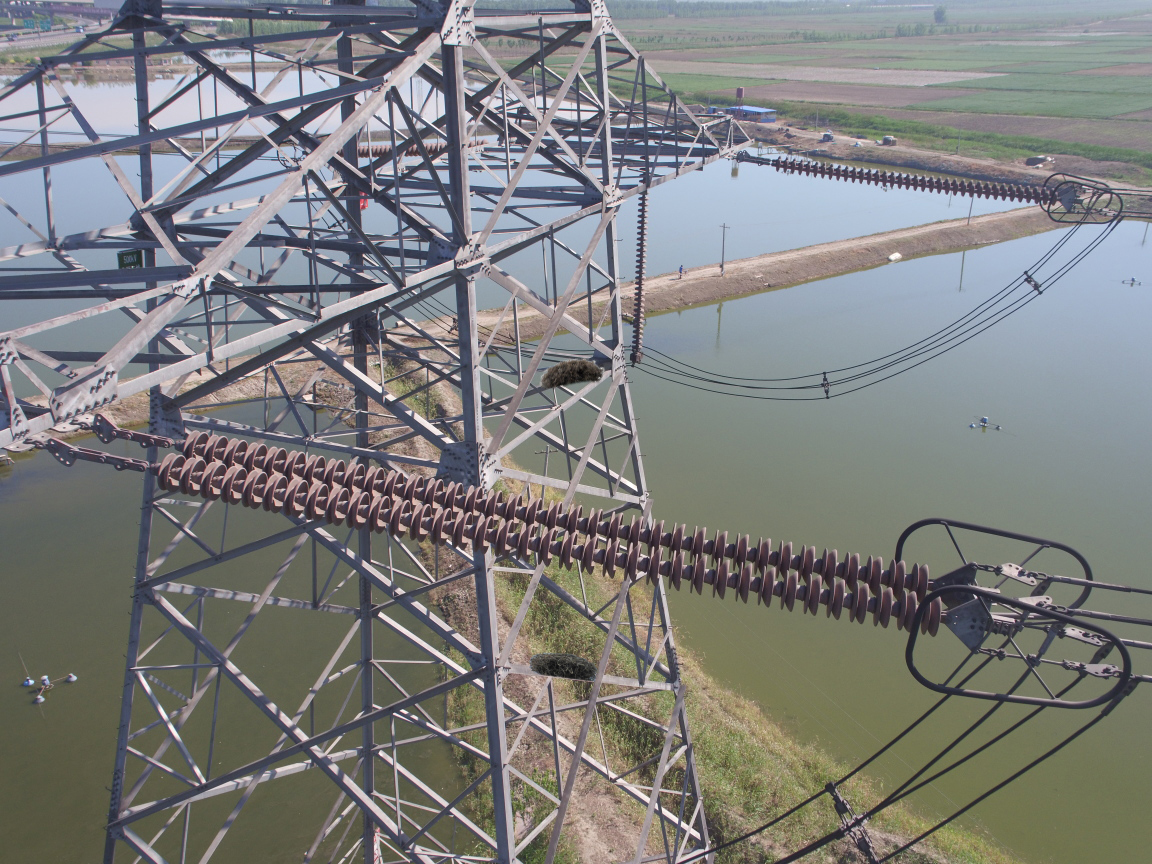nest: (537, 350, 604, 396), (525, 648, 600, 684)
